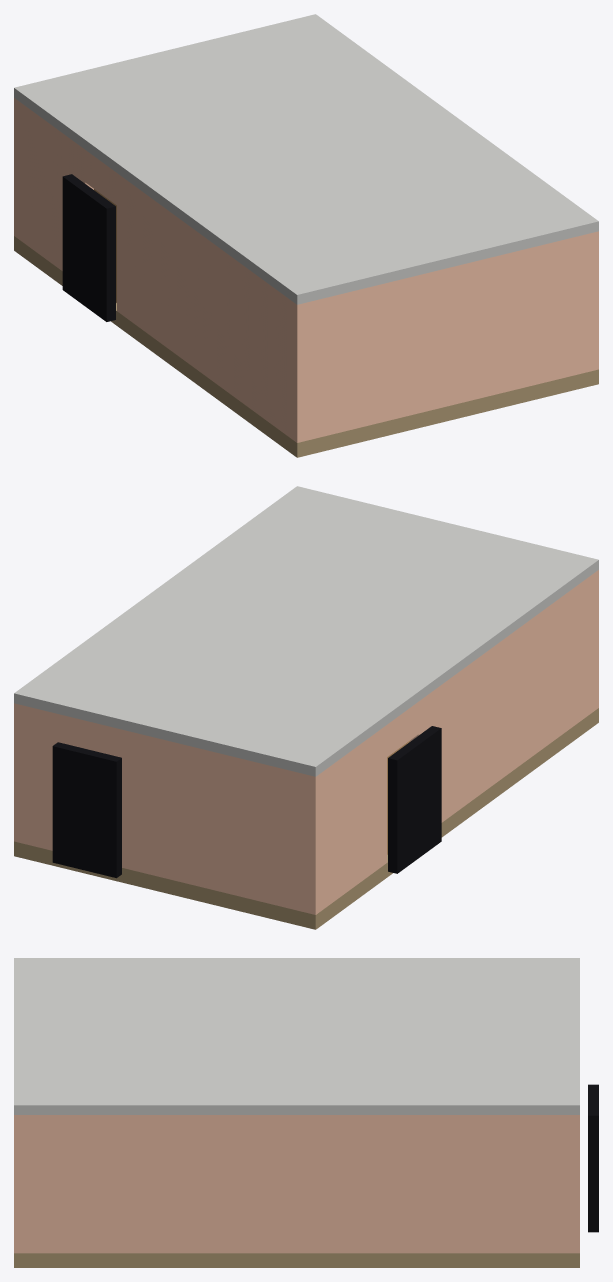
File: rdwe_motel_room.glb
3 renders of one model, top to bottom at view 1: azimuth 30°, elevation 25°; view 2: azimuth 150°, elevation 25°; view 3: azimuth 270°, elevation 25°, orthographic.
Parts seen in each view (by area): view 1: Room_Ceiling, Room_Wall_S_1, Room_Wall_W_3, Room_Floor, Room_Wall_W_1, Beyond_drum, Room_Wall_W_2, Room_Wall_N_1; view 2: Room_Ceiling, Room_Wall_N_1, Room_Wall_W_3, Room_Wall_W_1, Beyond_bathroom, Room_Floor, Beyond_drum, Room_Wall_N_3, Room_Wall_N_2, Room_Wall_W_2, Room_Wall_S_1; view 3: Room_Ceiling, Room_Wall_E_1, Room_Floor, Beyond_bathroom, Room_Wall_N_3, Room_Wall_S_1.
Boxes of the visible parts, box(x1,y1,x2,y2) form: Room_Ceiling: box(14, 14, 598, 304); Room_Wall_S_1: box(291, 231, 598, 442); Room_Wall_W_3: box(117, 173, 291, 438); Room_Floor: box(14, 236, 598, 457); Room_Wall_W_1: box(19, 102, 93, 270); Beyond_drum: box(62, 174, 115, 321); Room_Wall_W_2: box(85, 150, 116, 205); Room_Wall_N_1: box(14, 98, 19, 239); Room_Ceiling: box(14, 486, 598, 776); Room_Wall_N_1: box(115, 728, 321, 914); Room_Wall_W_3: box(410, 574, 593, 822); Room_Wall_W_1: box(321, 725, 386, 910); Beyond_bathroom: box(52, 742, 121, 878); Room_Floor: box(14, 708, 598, 929); Beyond_drum: box(388, 726, 441, 873); Room_Wall_N_3: box(14, 703, 72, 850); Room_Wall_N_2: box(73, 717, 115, 755); Room_Wall_W_2: box(387, 702, 418, 756); Room_Wall_S_1: box(593, 570, 598, 711); Room_Ceiling: box(14, 958, 579, 1114); Room_Wall_E_1: box(25, 1115, 568, 1253); Room_Floor: box(14, 1253, 579, 1267); Beyond_bathroom: box(588, 1084, 598, 1232); Room_Wall_N_3: box(569, 1115, 579, 1253); Room_Wall_S_1: box(14, 1115, 24, 1253).
Bounding box in the file's own units: 6.75 × 3.3 × 10.75.
